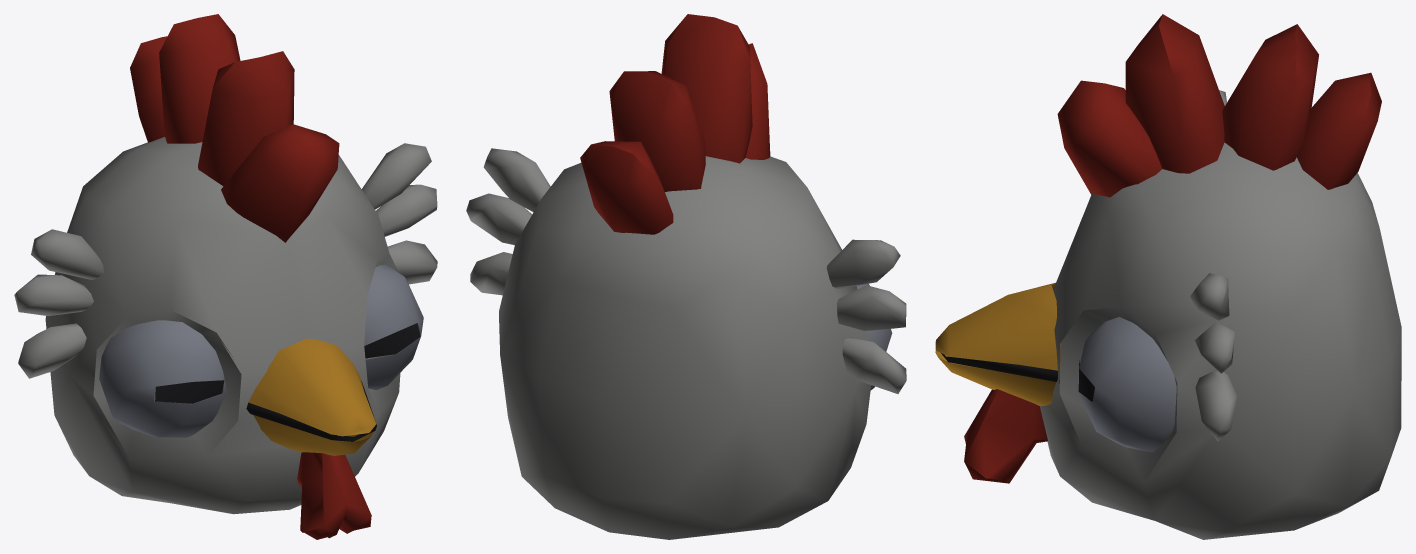
Rendered from chicken.common-far.glb.
3 views of the same model, side by side, from view 1: azimuth 30°, elevation 25°; view 2: azimuth 150°, elevation 25°; view 3: azimuth 270°, elevation 25° (orthographic). The views are drawn at different scales.
Visible parts, largest first — view 1: HordeReadyRigidMesh; view 2: HordeReadyRigidMesh; view 3: HordeReadyRigidMesh.
Boxes of the visible parts, box(x1,y1,x2,y2) form: HordeReadyRigidMesh: box(14, 14, 437, 539); HordeReadyRigidMesh: box(466, 14, 906, 539); HordeReadyRigidMesh: box(935, 14, 1401, 539).
Size of the model in its own units: 1.19 by 1.21 by 1.07.
